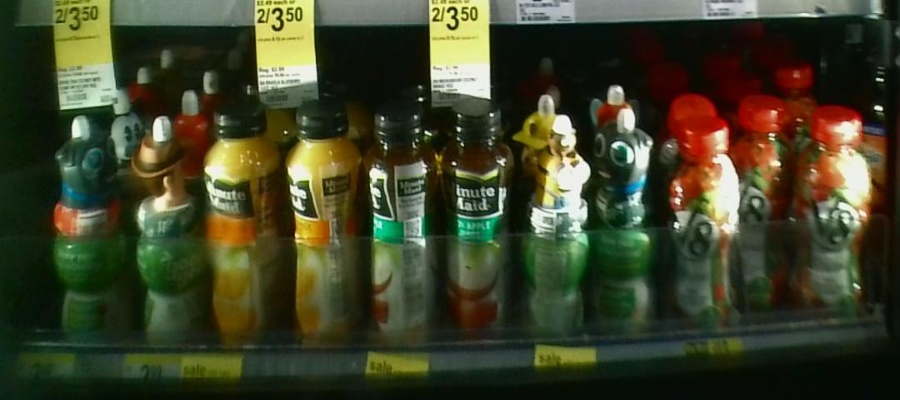bottle: (206, 92, 288, 351), (367, 92, 443, 353), (51, 104, 128, 356), (289, 94, 363, 349), (130, 100, 204, 353), (448, 92, 518, 356), (793, 107, 874, 322), (522, 108, 593, 352), (666, 100, 738, 338), (598, 102, 662, 342), (739, 92, 789, 325)
